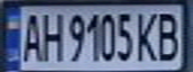0: (100, 10, 118, 62)
1: (84, 10, 100, 62)
5: (115, 9, 136, 62)
9: (63, 9, 84, 62)
A: (18, 9, 45, 63)
B: (154, 8, 184, 62)
H: (39, 9, 63, 62)
K: (133, 9, 160, 63)
